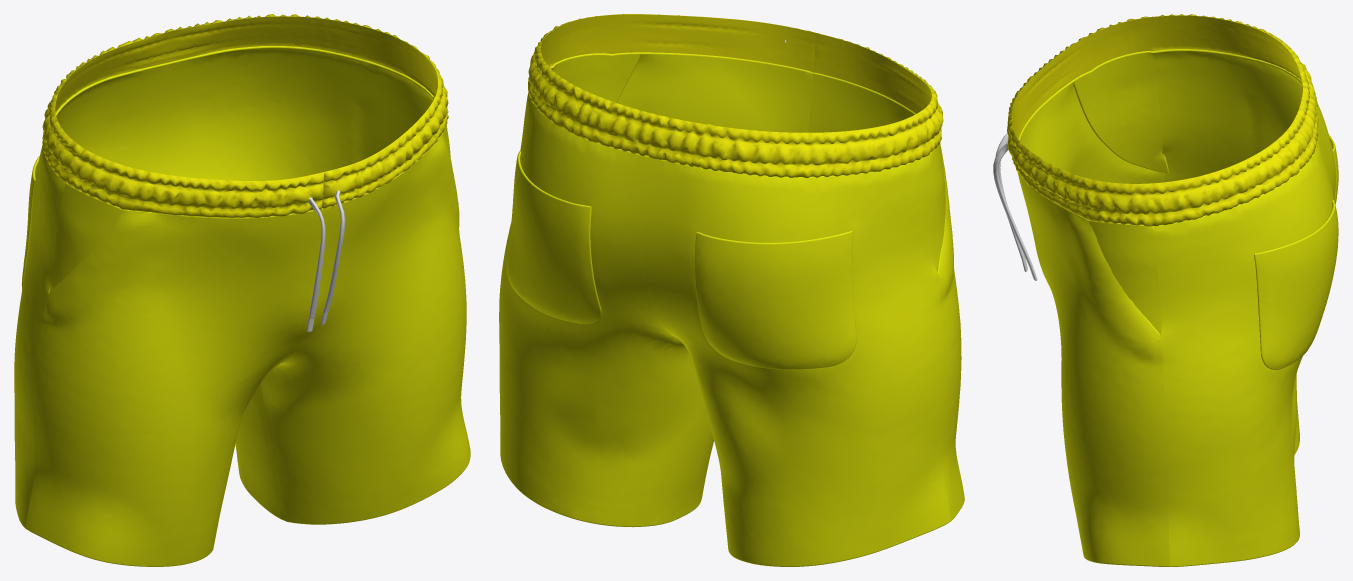
Rendered from 1701802603_shorts.glb.
The picture shows the model from 3 angles, left to right: view 1: azimuth 30°, elevation 25°; view 2: azimuth 150°, elevation 25°; view 3: azimuth 270°, elevation 25°; orthographic projection. The views are drawn at different scales.
Visible parts, largest first — view 1: pant; view 2: pant; view 3: pant.
Part boxes in pixels (<box>): pant: <box>14,14,470,566</box>; pant: <box>499,14,964,566</box>; pant: <box>993,14,1338,566</box>.
Bounding box in the file's own units: 31.11 × 30.89 × 22.61.
